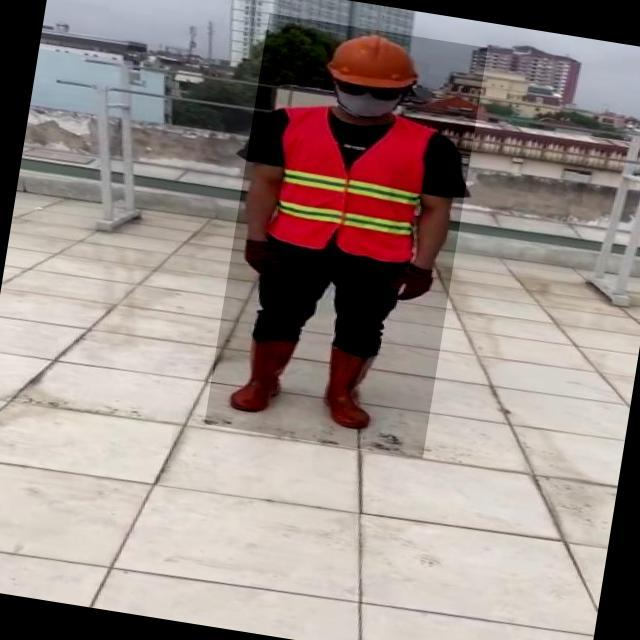Gloves: (386, 264, 436, 308), (243, 242, 287, 279)
Helmet: (320, 25, 427, 103)
Human: (205, 14, 488, 459)
Safety Boot: (229, 335, 296, 418), (321, 346, 383, 434)
Safety Vest: (267, 103, 438, 269)
